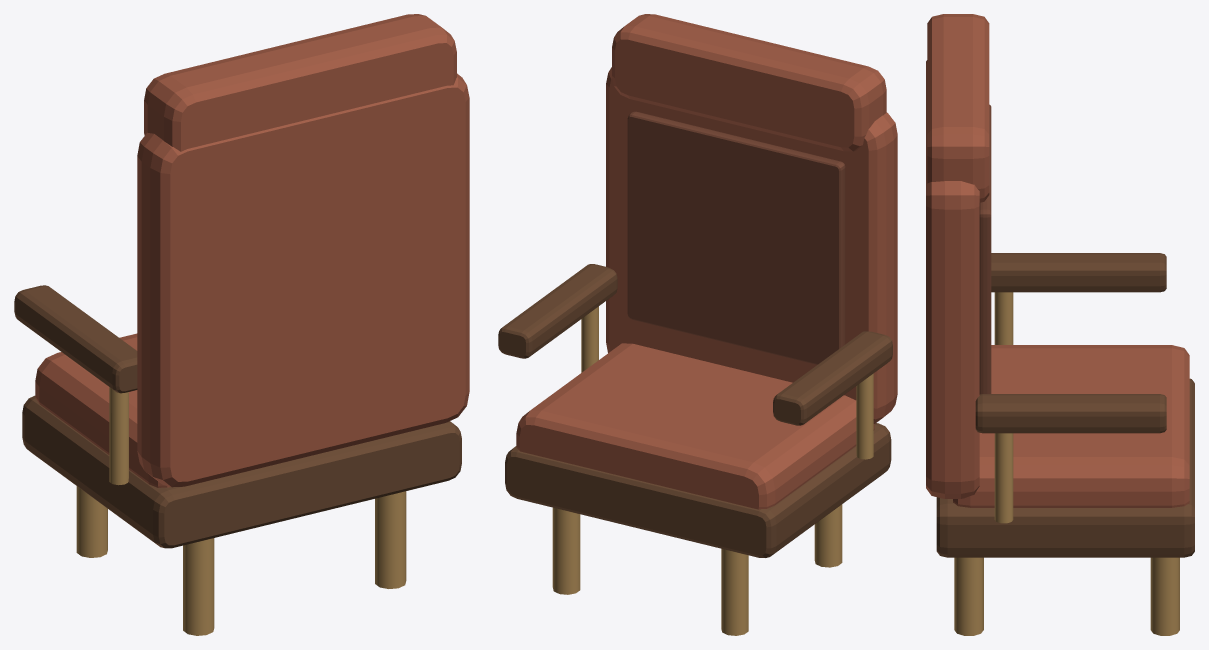
File: seat_classic.glb
3 views of the same model, side by side, from view 1: azimuth 30°, elevation 25°; view 2: azimuth 150°, elevation 25°; view 3: azimuth 270°, elevation 25° (orthographic). The views are drawn at different scales.
Parts seen in each view (by area): view 1: Upholstered backrest, Seat frame, Headrest, Tapered leg (×3), Armrest, Seat cushion, Arm support; view 2: Backrest inset, Seat cushion, Upholstered backrest, Headrest, Seat frame, Armrest (×2), Tapered leg (×3), Arm support (×2); view 3: Seat cushion, Upholstered backrest, Armrest (×2), Seat frame, Headrest, Tapered leg (×2), Arm support (×2), Backrest inset.
Boxes of the visible parts, box(x1,y1,x2,y2) form: Upholstered backrest: box(137, 73, 469, 487); Seat frame: box(22, 395, 461, 548); Headrest: box(144, 14, 456, 151); Tapered leg (×3): box(76, 486, 406, 635); Armrest: box(14, 285, 137, 393); Seat cushion: box(35, 333, 169, 487); Arm support: box(109, 387, 128, 485); Backrest inset: box(627, 111, 845, 364); Seat cushion: box(516, 343, 874, 509); Upholstered backrest: box(606, 67, 897, 423); Headrest: box(612, 14, 886, 151); Seat frame: box(505, 423, 891, 557); Armrest (×2): box(498, 264, 892, 425); Tapered leg (×3): box(552, 504, 842, 635); Arm support (×2): box(581, 306, 873, 459); Seat cushion: box(953, 345, 1189, 507); Upholstered backrest: box(926, 60, 979, 498); Armrest (×2): box(975, 253, 1166, 433); Seat frame: box(936, 378, 1194, 557); Headrest: box(927, 14, 989, 202); Tapered leg (×2): box(954, 557, 1179, 635); Arm support (×2): box(994, 292, 1013, 523); Backrest inset: box(979, 104, 991, 394).
Bounding box in the file's own units: 1.39 × 2.11 × 1.
